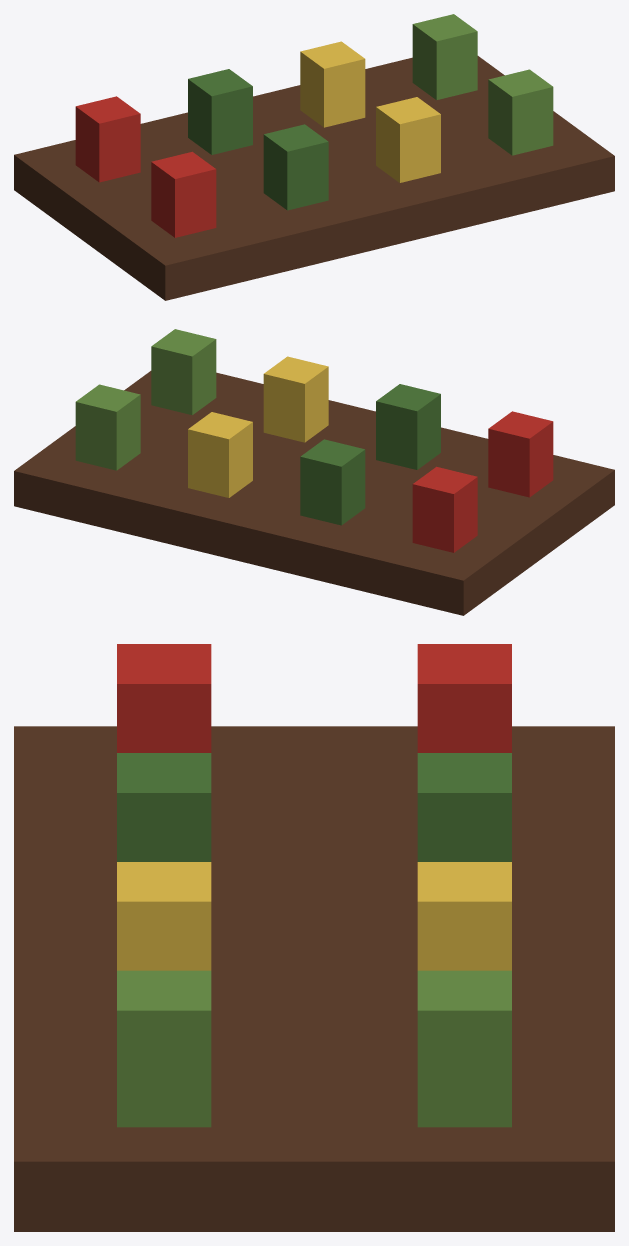
File: millers_garden.glb
3 renders of one model, top to bottom at view 1: azimuth 30°, elevation 25°; view 2: azimuth 150°, elevation 25°; view 3: azimuth 270°, elevation 25°, orthographic. The views are drawn at different scales.
Parts seen in each view (by area): view 1: Box1, Box2, Box5, Box7, Box9, Box4, Box6, Box8, Box3; view 2: Box1, Box3, Box5, Box6, Box9, Box8, Box2, Box4, Box7; view 3: Box1, Box5, Box9, Box2, Box3, Box4, Box6, Box7, Box8.
Part boxes in pixels (box(x1,y1,x2,y2)): Box1: box(14, 56, 614, 300); Box2: box(75, 96, 140, 182); Box5: box(412, 14, 477, 100); Box7: box(263, 124, 328, 210); Box9: box(488, 69, 553, 155); Box4: box(300, 41, 365, 127); Box6: box(151, 151, 216, 237); Box8: box(376, 97, 440, 182); Box3: box(188, 69, 252, 154); Box1: box(14, 371, 614, 615); Box3: box(300, 439, 365, 525); Box5: box(75, 384, 140, 470); Box6: box(488, 411, 553, 497); Box9: box(151, 329, 216, 415); Box8: box(263, 356, 328, 442); Box2: box(412, 466, 477, 552); Box4: box(188, 412, 252, 497); Box7: box(376, 384, 440, 469); Box1: box(14, 726, 614, 1231); Box5: box(417, 970, 511, 1127); Box9: box(117, 970, 211, 1127); Box2: box(417, 644, 511, 752); Box3: box(417, 753, 511, 861); Box4: box(417, 862, 511, 970); Box6: box(117, 644, 211, 752); Box7: box(117, 753, 211, 861); Box8: box(117, 862, 211, 970).
Bounding box in the file's own units: 2.4 × 0.48 × 1.4.
